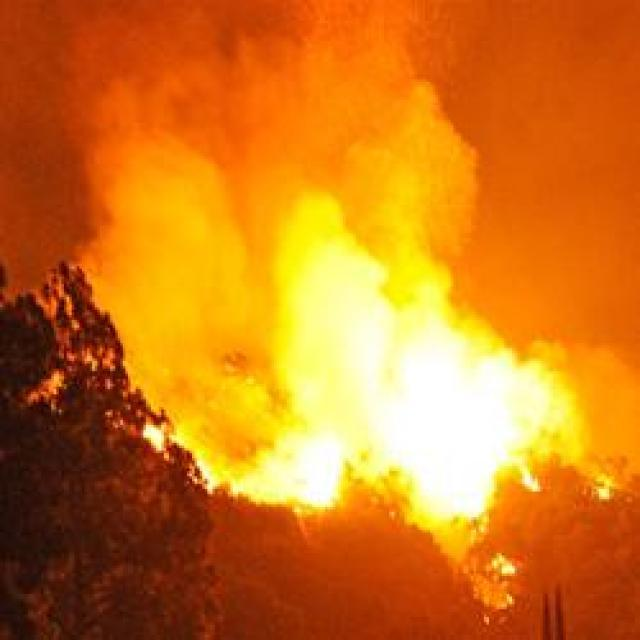Fire: (173, 212, 636, 571)
Smoke: (16, 22, 640, 350)
